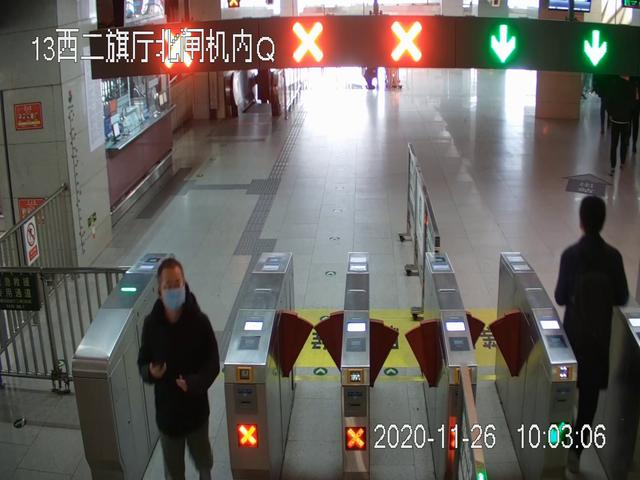person: (554, 194, 630, 474), (137, 258, 220, 480)
